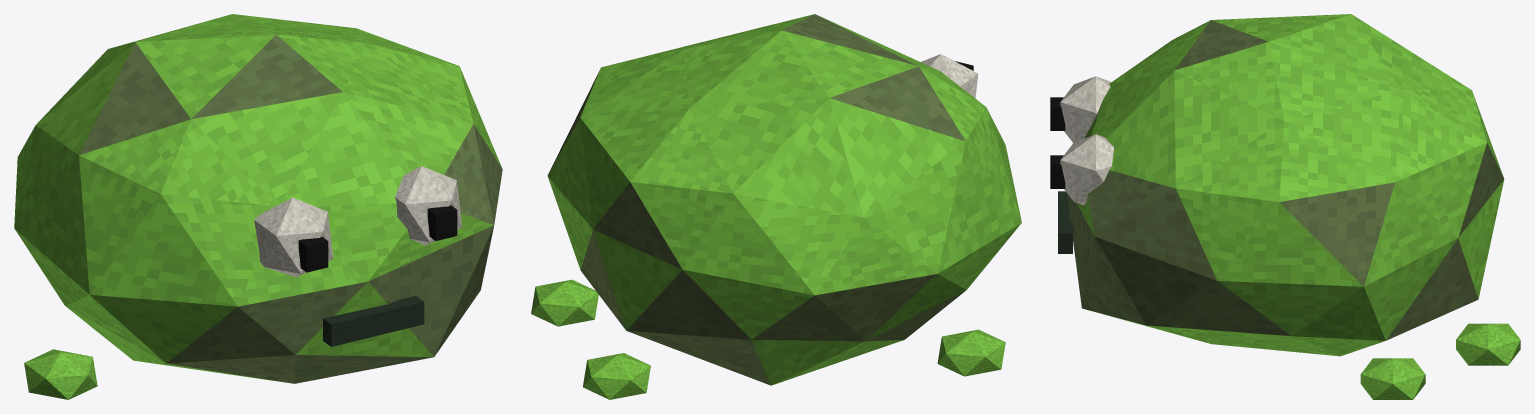
The model's file is enemy_slime.glb.
The picture shows the model from 3 angles, left to right: view 1: azimuth 30°, elevation 25°; view 2: azimuth 150°, elevation 25°; view 3: azimuth 270°, elevation 25°; orthographic projection. The views are drawn at different scales.
Visible parts, largest first — view 1: enemy_slime; view 2: enemy_slime; view 3: enemy_slime.
Part boxes in pixels (x1,y1,x2,y2): enemy_slime: (14, 14, 502, 399); enemy_slime: (531, 14, 1021, 399); enemy_slime: (1050, 14, 1520, 399).
Size of the model in its own units: 1.24 by 0.8606 by 1.24.
Materials: 2 (2 with a texture image).
